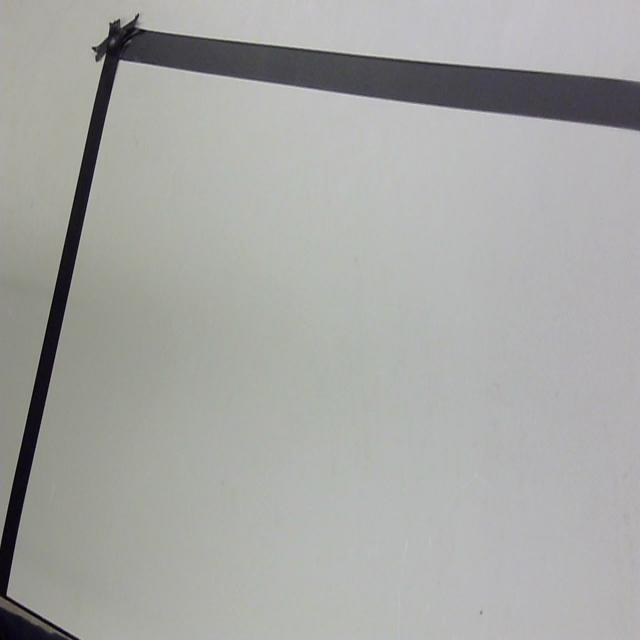tape: (0, 4, 640, 613)
